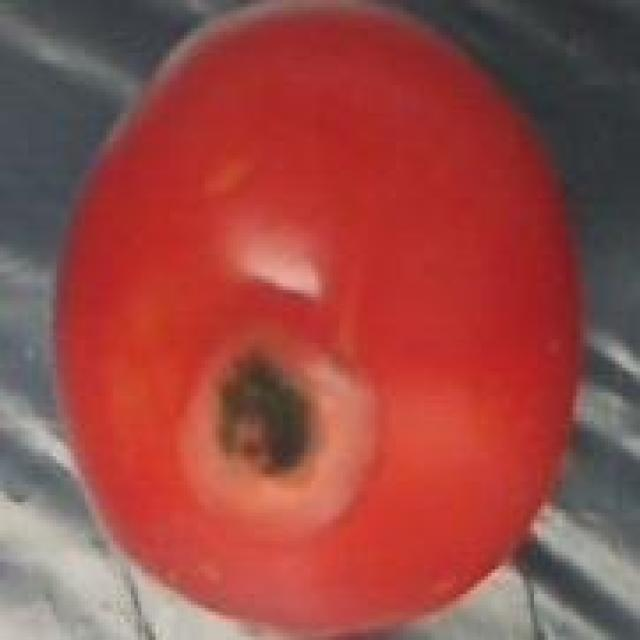overripe tomato: (42, 3, 593, 640)
